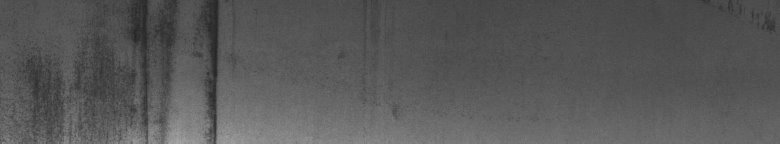ka: (75, 4, 224, 136)
